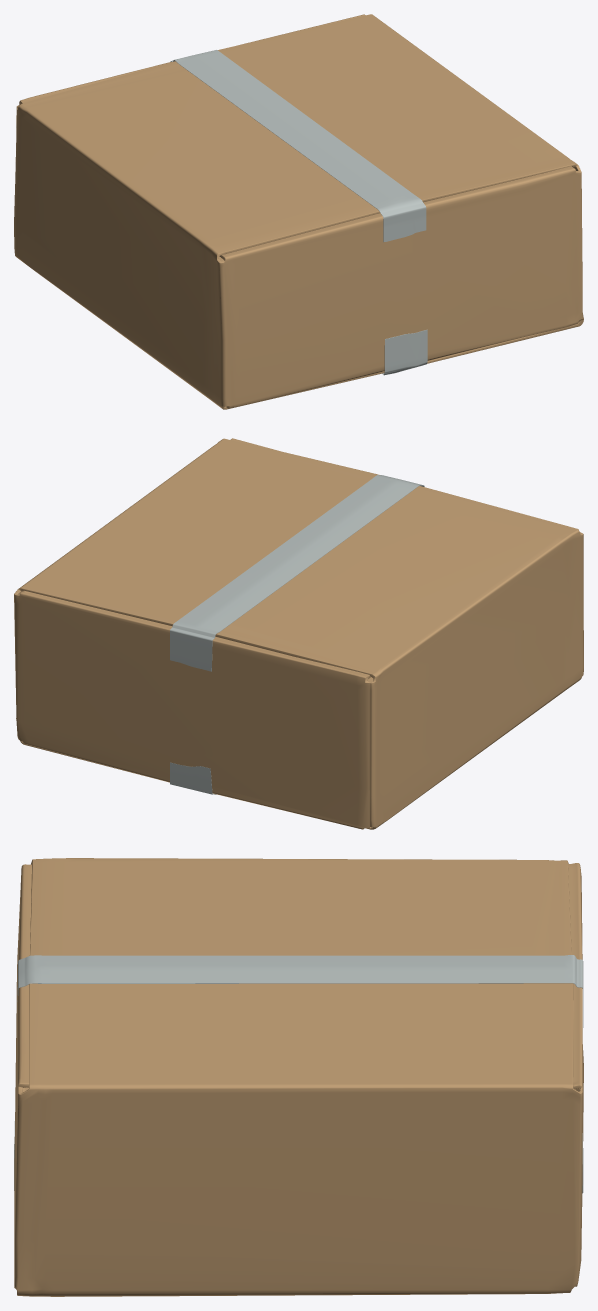
Rendered from box_flat_a05.glb.
3 renders of one model, top to bottom at view 1: azimuth 30°, elevation 25°; view 2: azimuth 150°, elevation 25°; view 3: azimuth 270°, elevation 25°, orthographic. The views are drawn at different scales.
Size of the model in its own units: 0.256 by 0.1104 by 0.2627.
